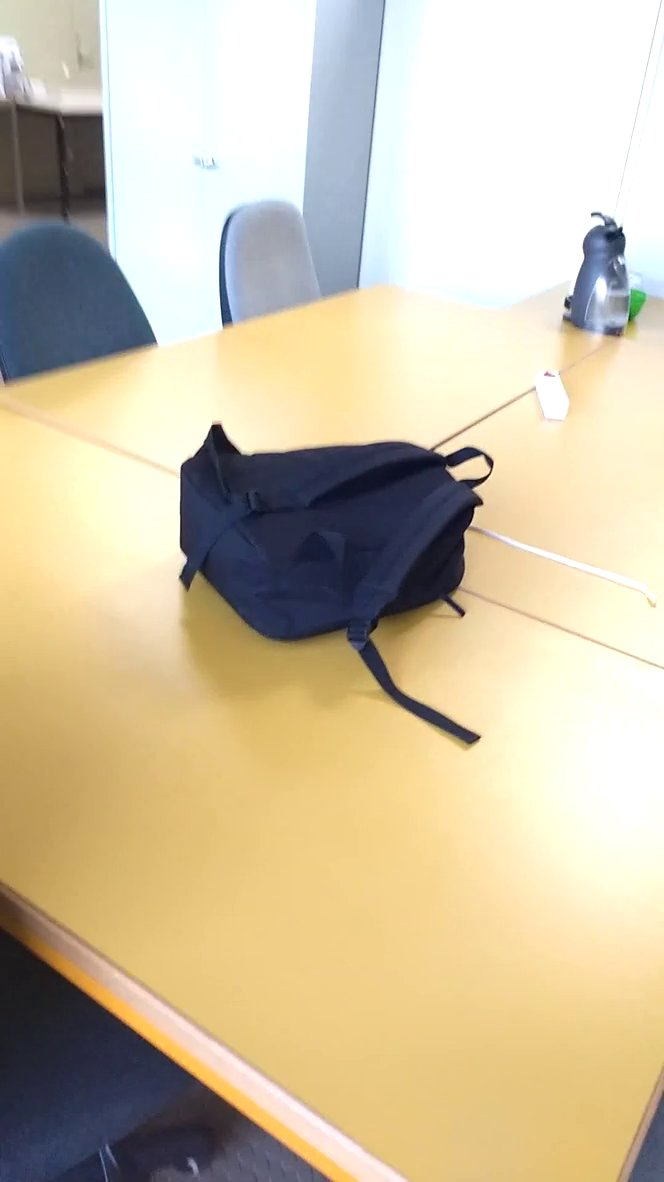bag: (158, 418, 507, 758)
chair: (1, 216, 165, 394), (209, 187, 336, 334)
